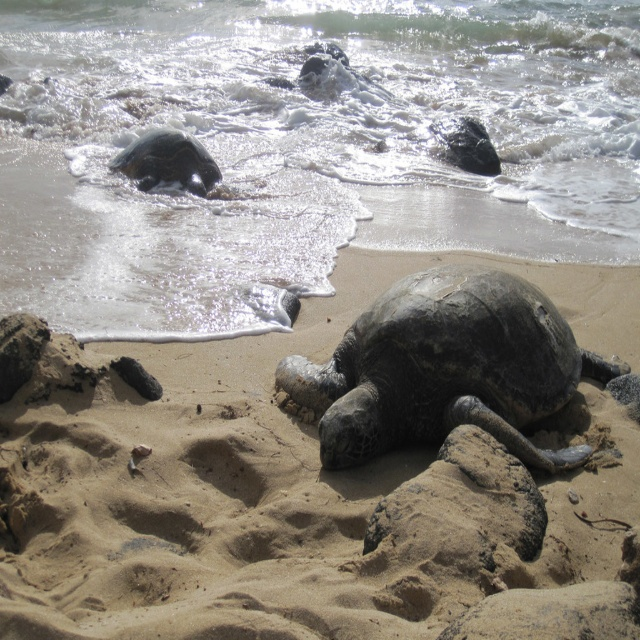Turtle: (428, 116, 500, 176), (305, 41, 349, 67)
